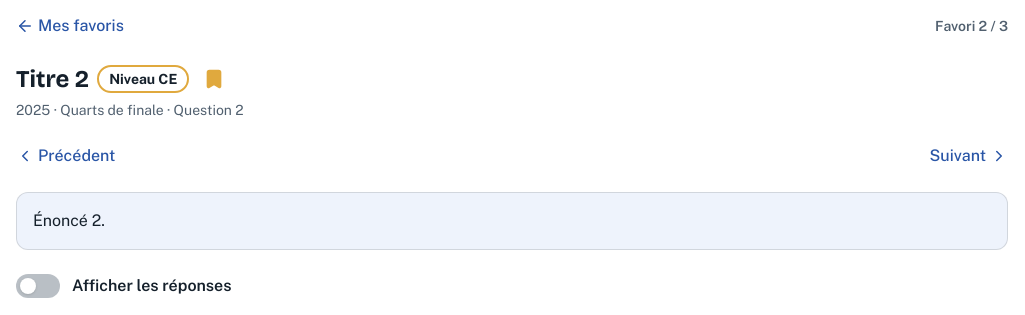
ListQuestionPage (Story 4.5) › removing the displayed favorite keeps it displayed and the order frozen
The width and height of the screenshot is (1025, 315).
Expected: the text "Énoncé 2." is shown, [33,211,105,230]
Click the button named "Retirer des favoris" at (214, 79), box [197,62,231,96]
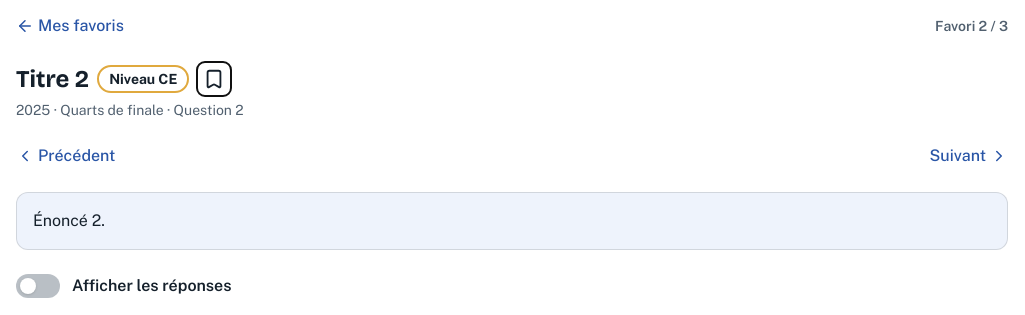
Expected: the text "Énoncé 2." is shown, [33,211,105,230]
Expected: the text "Favori 2 / 3" is shown, [935,16,1008,36]
Click the link "Suivant" at (969, 156), box [930,144,1008,168]
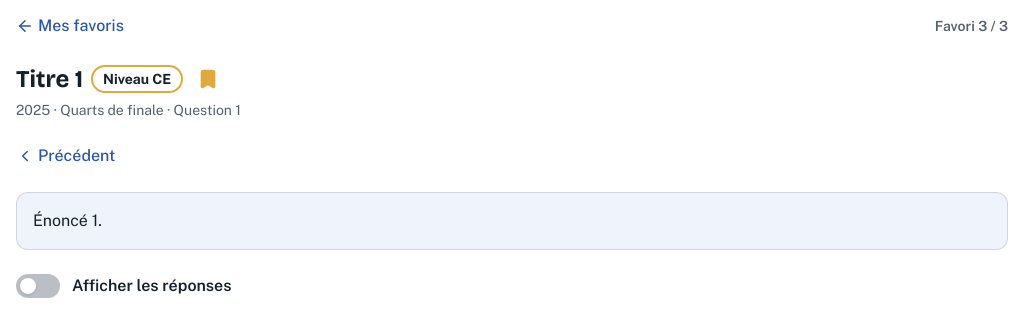
Expected: the text "Énoncé 1." is shown, [33,211,102,230]
Expected: the text "Favori 3 / 3" is shown, [935,16,1008,36]
